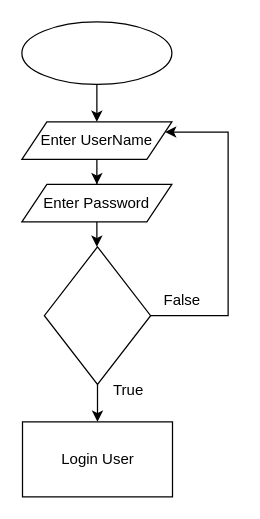
Some shapes in this 260 by 519 pixel diagram are drawn without their labels. Here are the shapes that lost their labels. From the top down, the box of each, then its label:
(21, 21, 172, 84): START
(43, 246, 151, 384): User and Password Match
